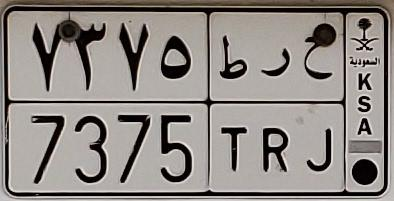3: (70, 22, 115, 186)
5: (159, 32, 196, 184)
7: (114, 21, 154, 185), (30, 22, 69, 186)
J: (303, 35, 335, 175)
R: (259, 44, 291, 174)
T: (218, 35, 253, 173)
